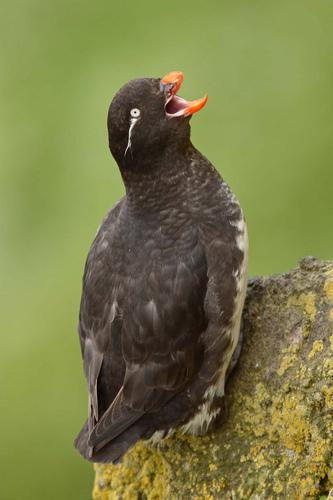007.Parakeet_Auklet: (74, 72, 249, 465)
